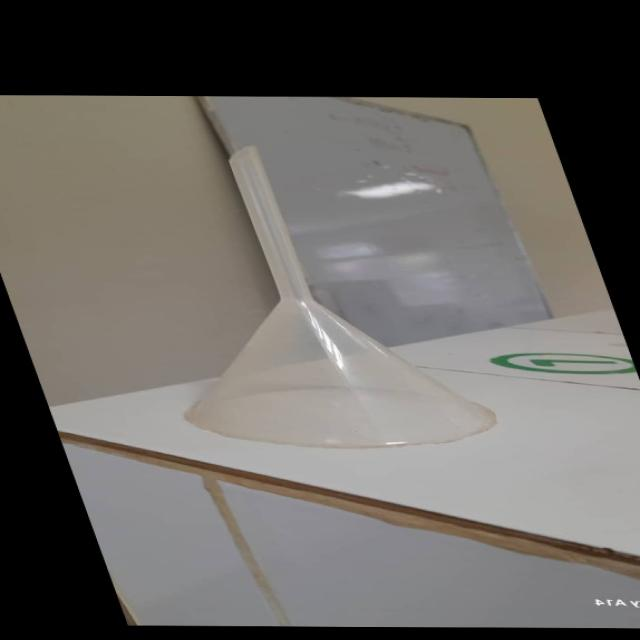Funnel: (93, 156, 504, 451)
